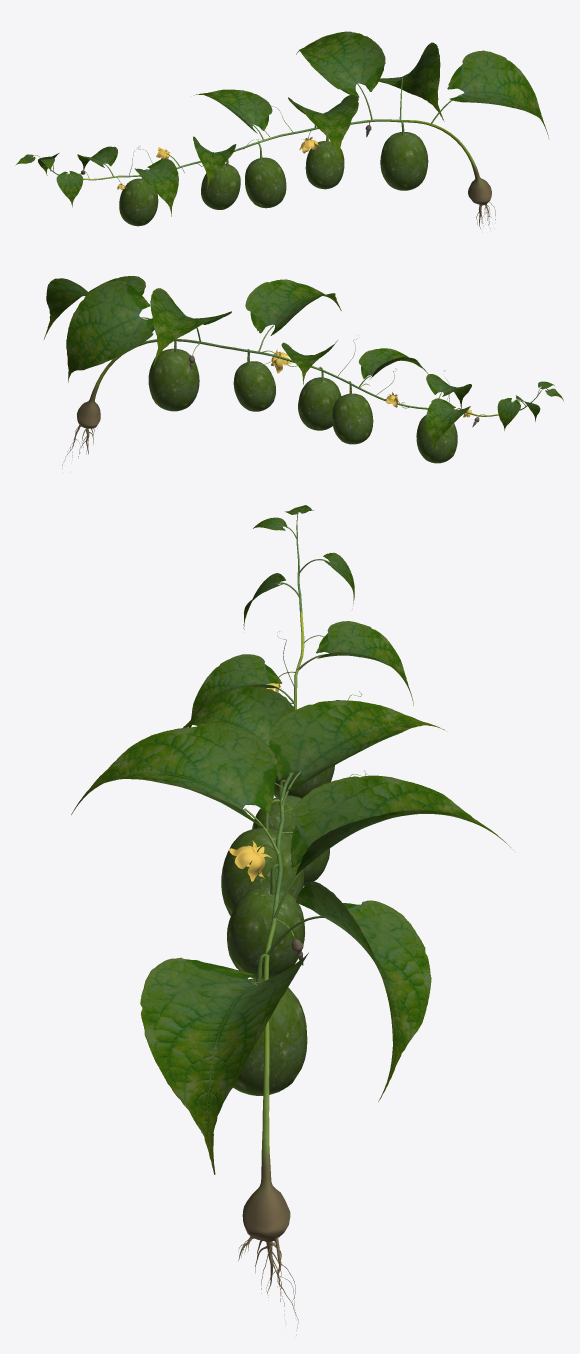
The model's file is luohanguo.fbx.
3 views of the same model, one above another, from view 1: azimuth 30°, elevation 25°; view 2: azimuth 150°, elevation 25°; view 3: azimuth 270°, elevation 25° (orthographic). The views are drawn at different scales.
Parts seen in each view (by area): view 1: group3; view 2: group3; view 3: group3.
Part boxes in pixels (x1,y1,x2,y2): group3: (15,31,549,229); group3: (44,276,563,465); group3: (71,505,510,1330).
Size of the model in its own units: 92.13 by 36.66 by 35.69.
